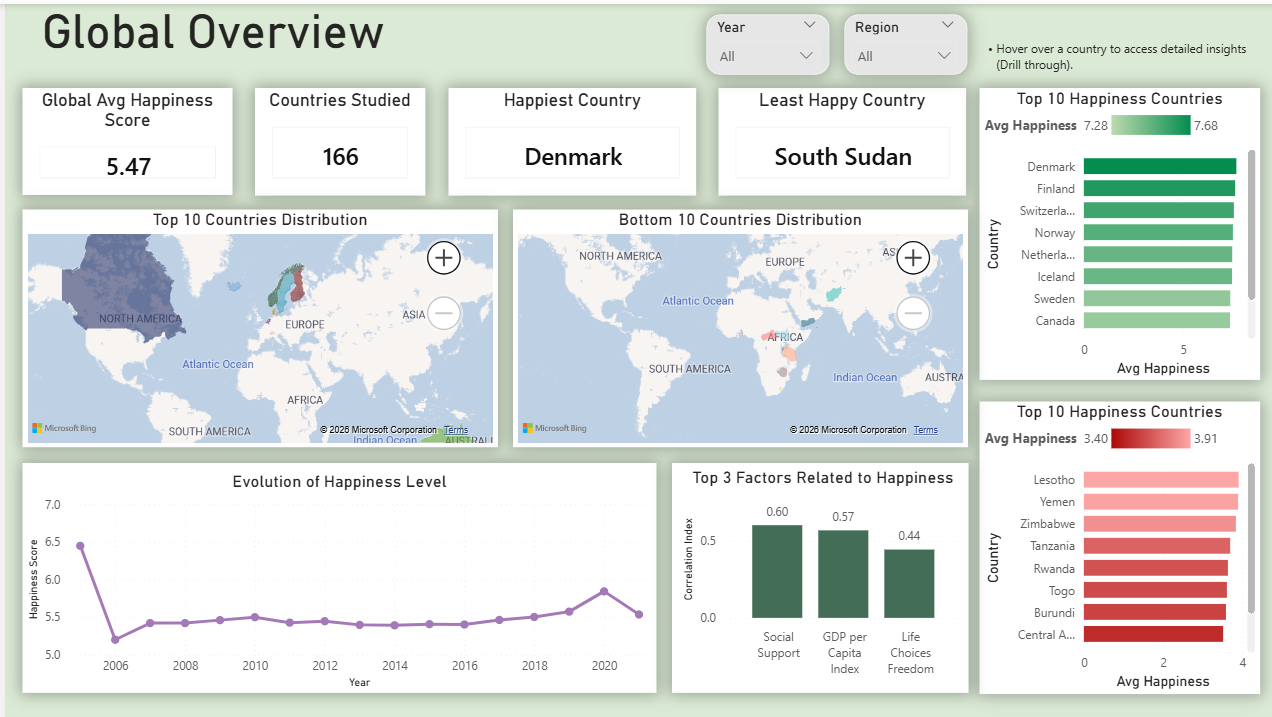

This screenshot's page, from the dashboard's own definition file:
{"tool":"powerbi","page":{"name":"Overview","canvas":[1280,720],"ordinal":10},"visuals":[{"type":"cardVisual","title":"Global Avg Happiness Score","fields":{"Data":["Measures (2).Avg Happiness"]},"box":[16,85,212,108],"z":0},{"type":"cardVisual","title":"Countries Studied","fields":{"Data":["Measures (2).Country Count"]},"box":[251.7,85,171.7,108.3],"z":1000},{"type":"cardVisual","title":"Happiest Country","fields":{"Data":["Measures (2).Top Happiness Country"]},"box":[446.7,85,250,108.3],"z":2000},{"type":"cardVisual","title":"Least Happy Country","fields":{"Data":["Measures (2).Bottom Happiness Country"]},"box":[720,85,250,108.3],"z":3000},{"type":"slicer","fields":{"Values":["dim_year.Year"]},"box":[707,11,123.9,60.9],"z":4000},{"type":"slicer","fields":{"Values":["dim_country.Region"]},"box":[846,11,123.9,60.9],"z":5000},{"type":"textbox","title":"Global Overview ","box":[16,0,576,64],"z":6000},{"type":"clusteredBarChart","title":"Top 10 Happiness Countries","fields":{"Y":["Measures (2).Avg Happiness"],"Category":["dim_country.Country"]},"box":[982.7,85,283.5,294.8],"z":7000},{"type":"clusteredBarChart","title":"Top 10 Happiness Countries","fields":{"Y":["Measures (2).Avg Happiness"],"Category":["dim_country.Country"]},"box":[982.7,400.6,283,295],"z":8000},{"type":"filledMap","title":"Top 10 Countries Distribution","fields":{"Category":["dim_country.Country"],"Series":["dim_country.Country"]},"box":[16,208,480,240],"z":9000},{"type":"filledMap","title":"Bottom 10 Countries Distribution","fields":{"Category":["dim_country.Country"],"Series":["dim_country.Country"]},"box":[512,208,459,240],"z":10000},{"type":"lineChart","title":"Evolution of Happiness Level ","fields":{"Y":["Model Measures.Avg Happiness"],"Category":["dim_year.Year"]},"box":[16,464,640,232],"z":11000},{"type":"clusteredColumnChart","title":"Top 3 Factors Related to Happiness","fields":{"Category":["Factor.Factor"],"Y":["Model Measures.Correlation Selected"]},"box":[672,464,299,232],"z":12000},{"type":"textbox","box":[976,32,304,64],"z":13000}]}

Visuals, with their boxes in screenshot pixels (x1, y1, x2, y2), scaled from the page's 1280x720 canvas onto the 1272x717 screenshot:
"Global Avg Happiness Score" cardVisual: crop(16, 85, 227, 192)
"Countries Studied" cardVisual: crop(250, 85, 421, 192)
"Happiest Country" cardVisual: crop(444, 85, 692, 192)
"Least Happy Country" cardVisual: crop(716, 85, 964, 192)
slicer - dim_year.Year: crop(703, 11, 826, 72)
slicer - dim_country.Region: crop(841, 11, 964, 72)
"Global Overview " textbox: crop(16, 0, 588, 64)
"Top 10 Happiness Countries" clusteredBarChart: crop(977, 85, 1258, 378)
"Top 10 Happiness Countries" clusteredBarChart: crop(977, 399, 1258, 693)
"Top 10 Countries Distribution" filledMap: crop(16, 207, 493, 446)
"Bottom 10 Countries Distribution" filledMap: crop(509, 207, 965, 446)
"Evolution of Happiness Level " lineChart: crop(16, 462, 652, 693)
"Top 3 Factors Related to Happiness" clusteredColumnChart: crop(668, 462, 965, 693)
textbox: crop(970, 32, 1271, 96)
